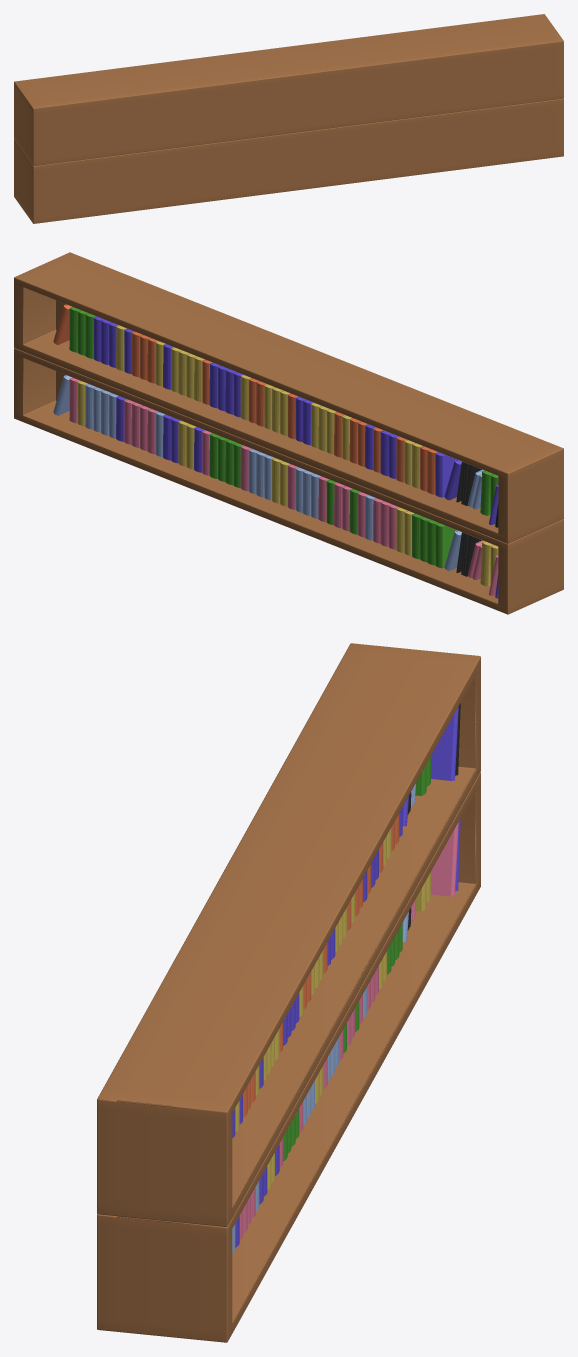
3 views of the same model, one above another, from view 1: azimuth 30°, elevation 25°; view 2: azimuth 150°, elevation 25°; view 3: azimuth 270°, elevation 25° (orthographic). The views are drawn at different scales.
Visible parts, largest first — view 1: tv_table.001, tv_table; view 2: tv_table.001, tv_table, note_4.001, note_4, note_59, note_59.001; view 3: tv_table.001, tv_table, note_7, note_7.001.
Part boxes in pixels (box(x1,y1,x2,y2)): tv_table.001: box(14, 14, 563, 165); tv_table: box(14, 98, 563, 223); tv_table.001: box(14, 252, 563, 543); tv_table: box(14, 348, 563, 614); note_4.001: box(435, 452, 456, 497); note_4: box(435, 523, 456, 568); note_59: box(53, 375, 71, 415); note_59.001: box(53, 304, 71, 344); tv_table.001: box(97, 643, 480, 1226); tv_table: box(97, 772, 480, 1342); note_7: box(431, 822, 458, 896); note_7.001: box(431, 706, 458, 780).
Size of the model in its own units: 2350 by 541 by 813.
